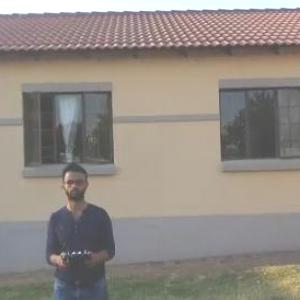follow: (39, 154, 120, 299)
